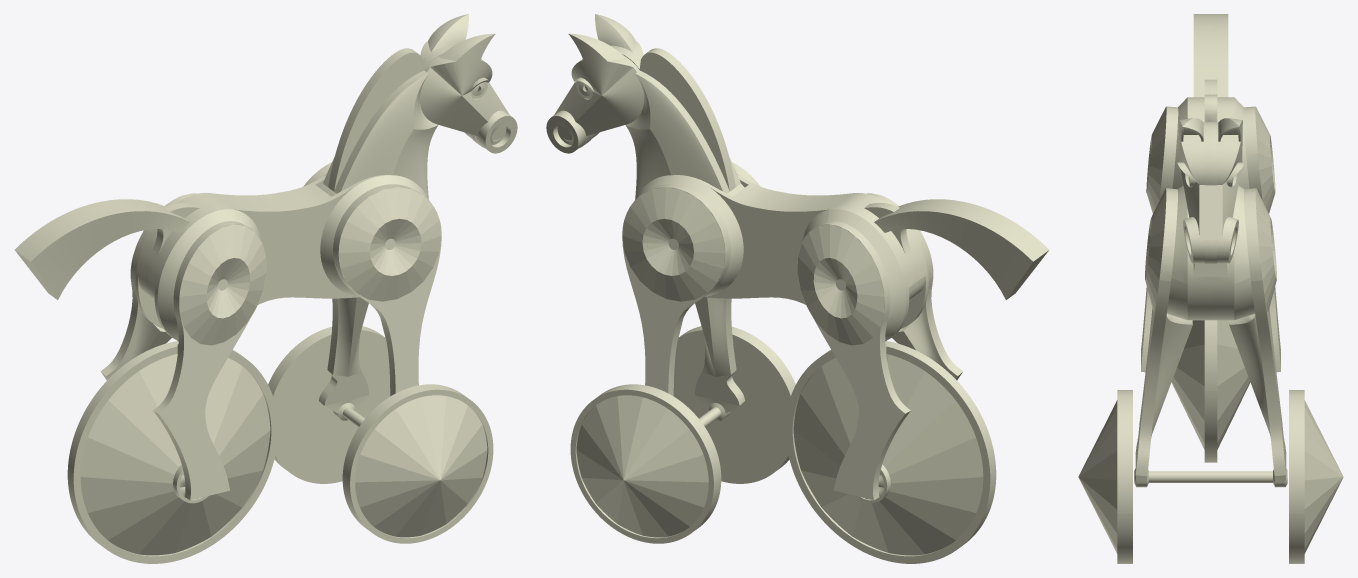
Rendered from _PAARD.dae.
The picture shows the model from 3 angles, left to right: view 1: azimuth 30°, elevation 25°; view 2: azimuth 150°, elevation 25°; view 3: azimuth 270°, elevation 25°; orthographic projection. The views are drawn at different scales.
Visible parts, largest first — view 1: SketchUp (×62); view 2: SketchUp (×62); view 3: SketchUp (×58).
Part boxes in pixels (bbox=[...]): SketchUp (×62): bbox=[14, 34, 509, 563]; SketchUp (×62): bbox=[554, 34, 1049, 563]; SketchUp (×58): bbox=[1078, 14, 1343, 563].
Size of the model in its own units: 11.31 by 5.08 by 10.21.
